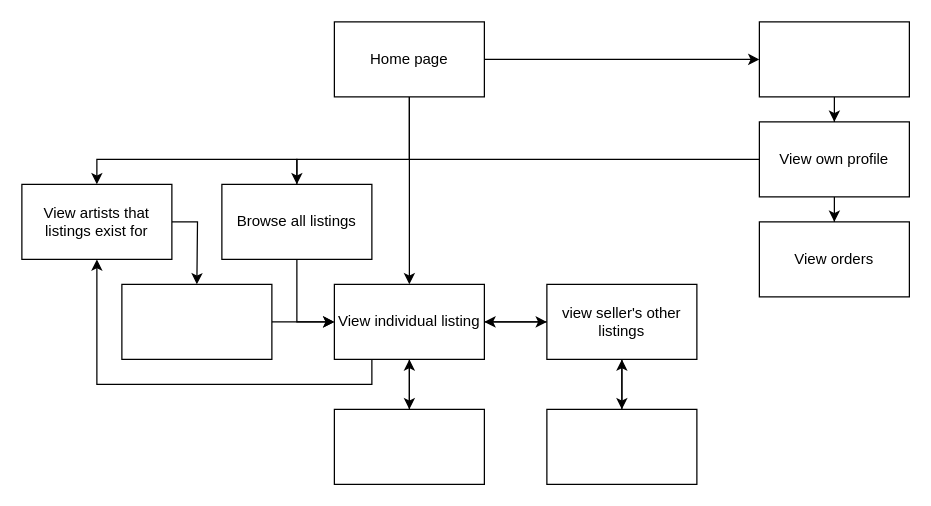
The diagram is 931 pixels wide and 506 high, and some of its shapes have lost their labels. Each missing label, with the centre of its shape:
"listings by artist" belongs at (x=196, y=321).
"Purchase page" belongs at (x=408, y=446).
"sign up / log in" belongs at (x=833, y=59).
"View seller's profile / reviews" belongs at (x=621, y=446).
